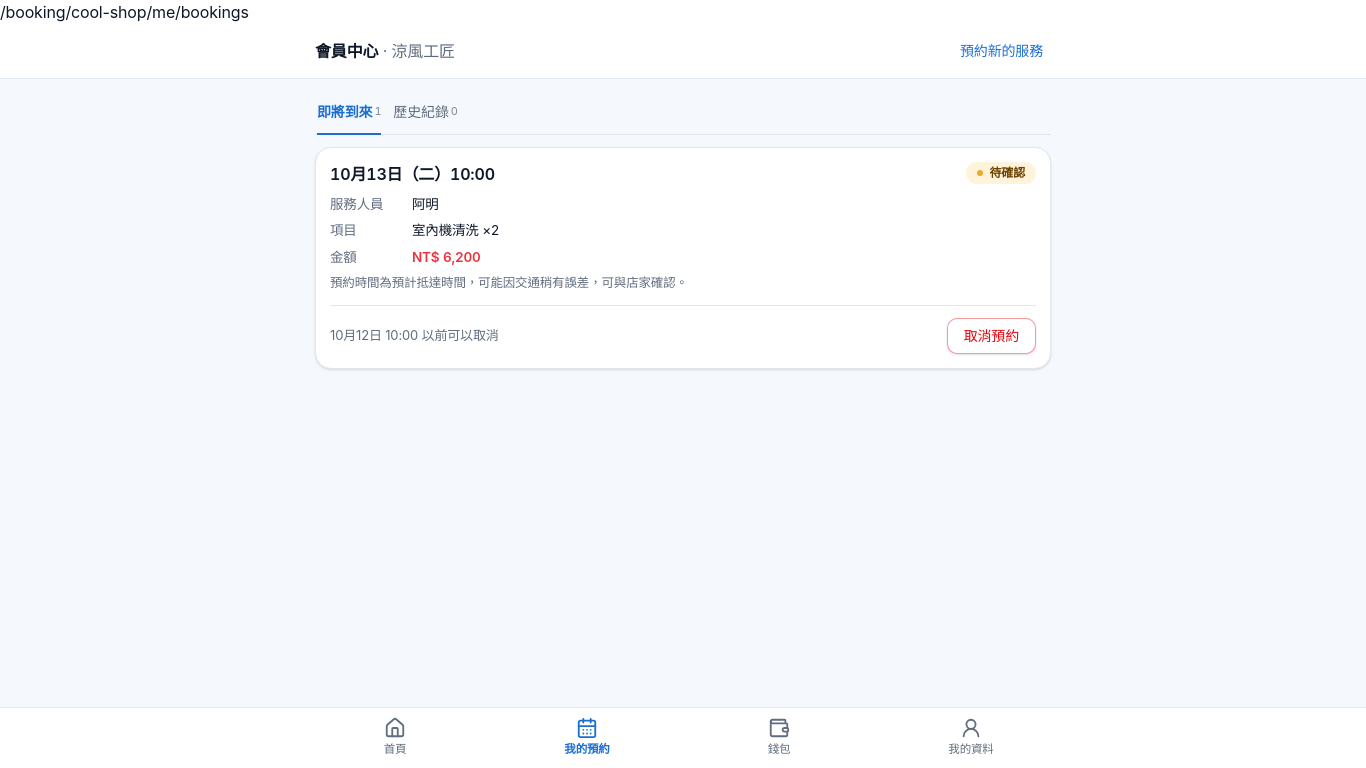
C4-C04 / D06 我的預約與取消 › 按確定時伺服器說期限過了 ⇒ 關窗,清單上方說明 + 聯絡按鈕;500 ⇒ 保留視窗
Click the button with test id "member-booking-cancel".
click(991, 336)  # box [947, 318, 1036, 354]
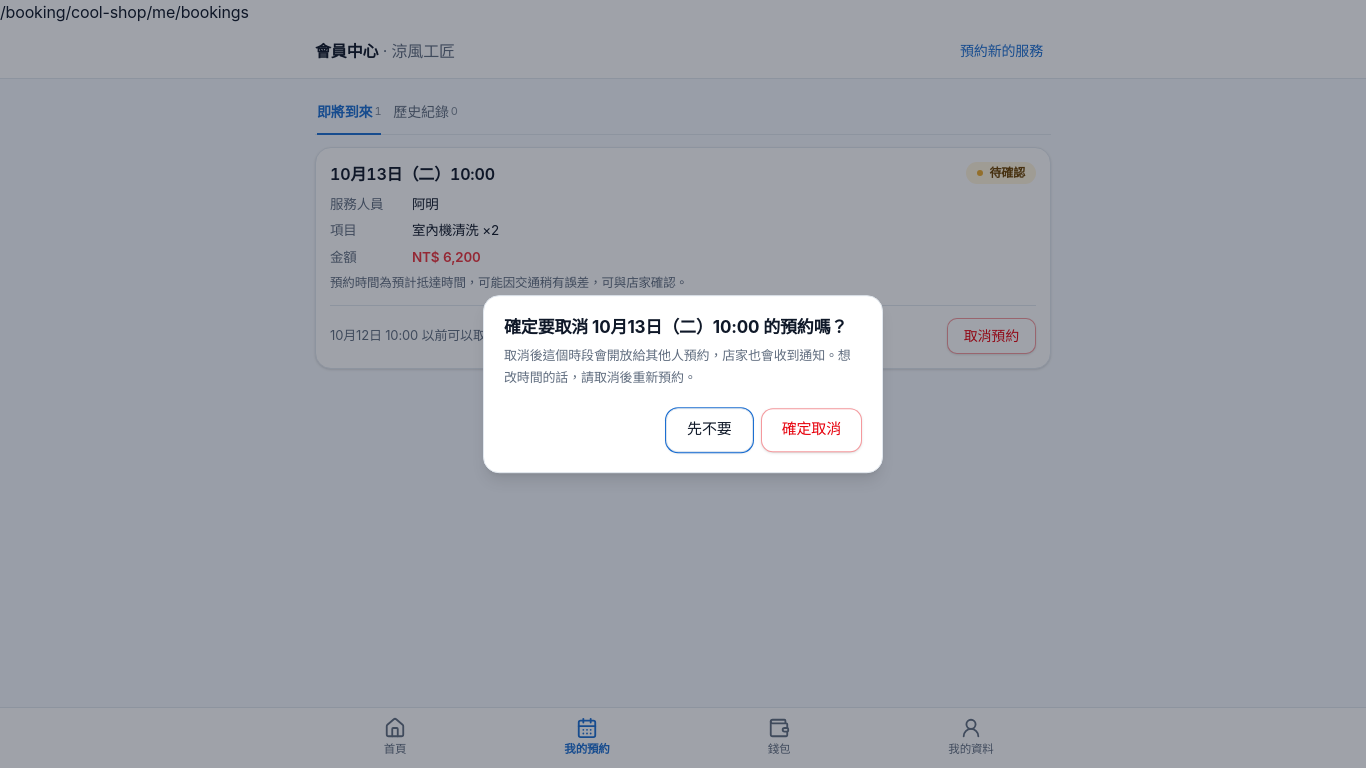
Click the button with test id "member-cancel-confirm".
click(811, 430)  # box [761, 408, 862, 452]
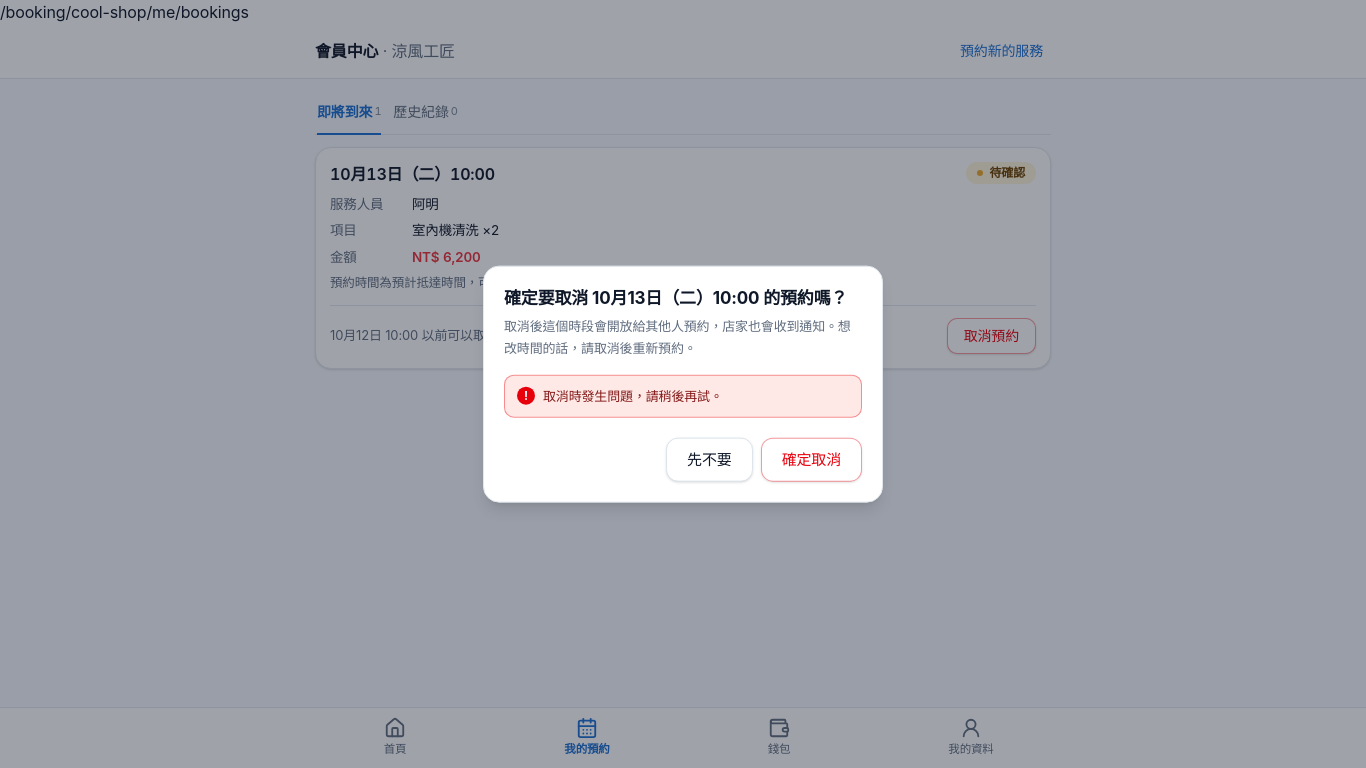
Result: the element with test id "member-cancel-error" shows "取消時發生問題，請稍後再試。" at [543, 387, 723, 403]
Click the button with test id "member-cancel-confirm".
click(811, 459)  # box [761, 437, 862, 481]
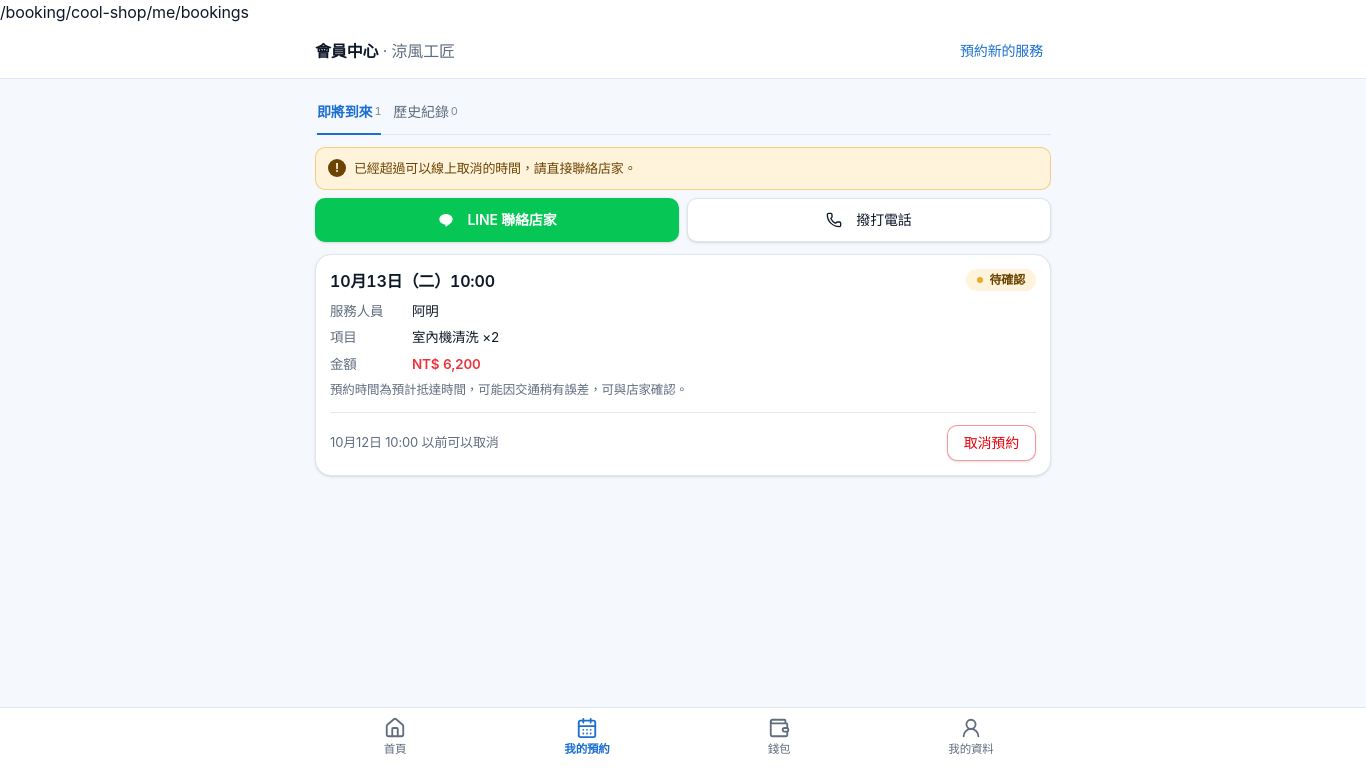
Result: the element with test id "member-bookings-notice" shows "已經超過可以線上取消的時間，請直接聯絡店家。" at [354, 160, 636, 176]
Result: the element with test id "public-booking-contacts" is shown at [315, 198, 1051, 242]
